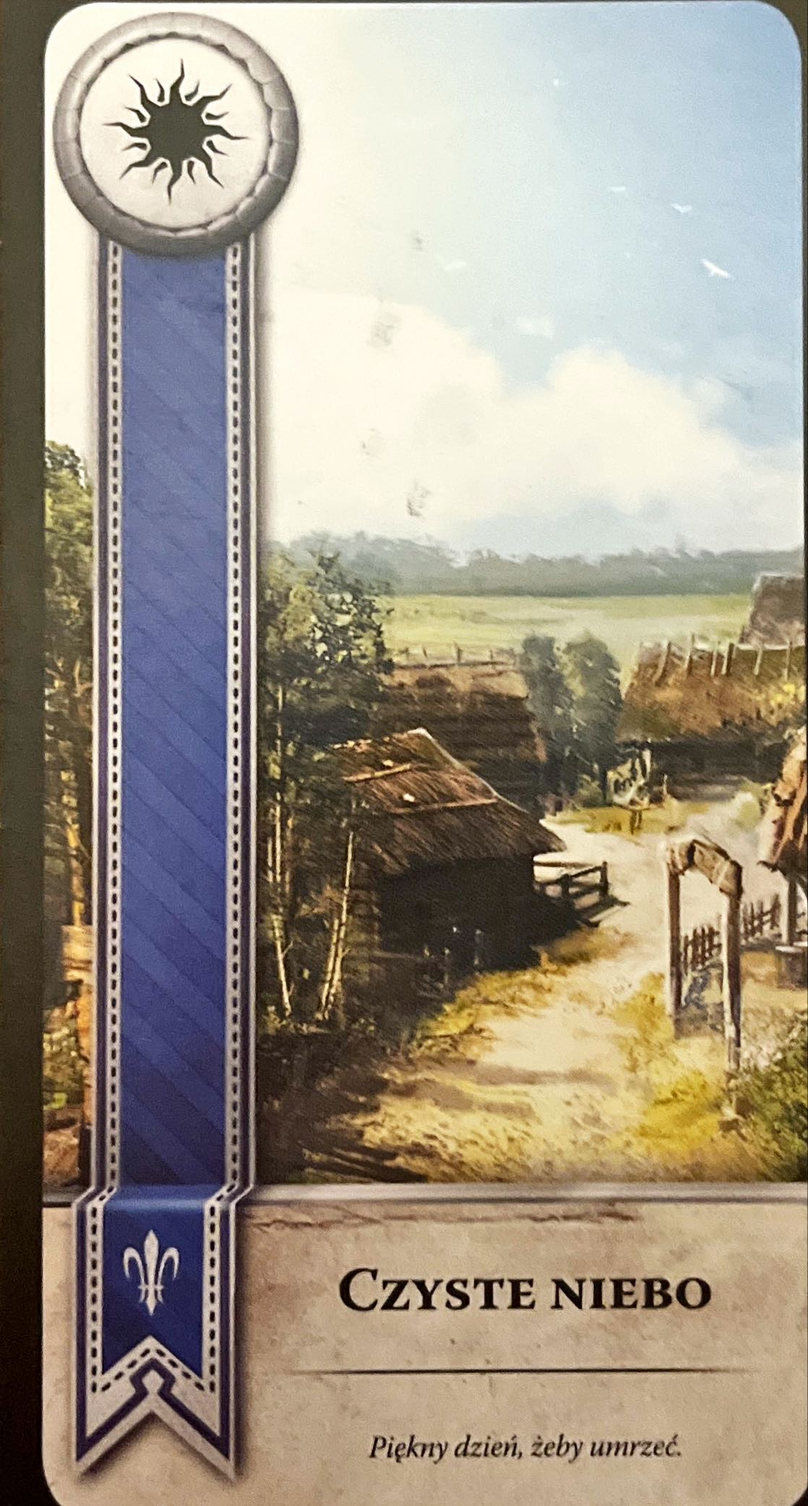czyste niebo: (48, 9, 301, 254)
